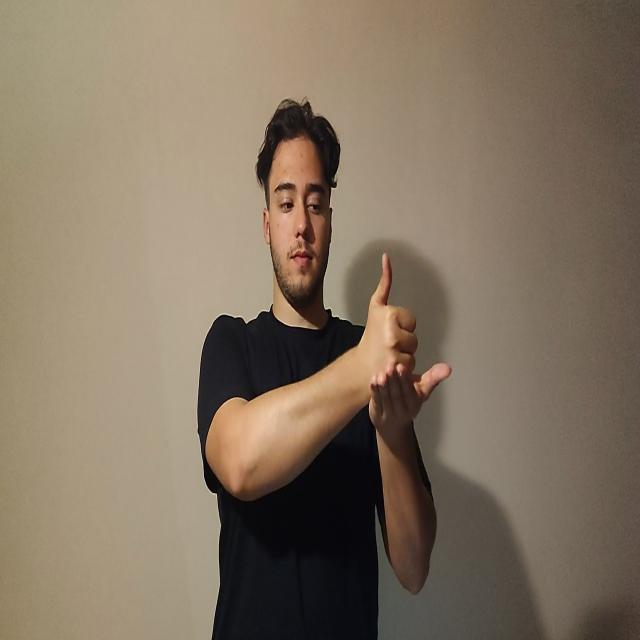help: (360, 254, 454, 419)
